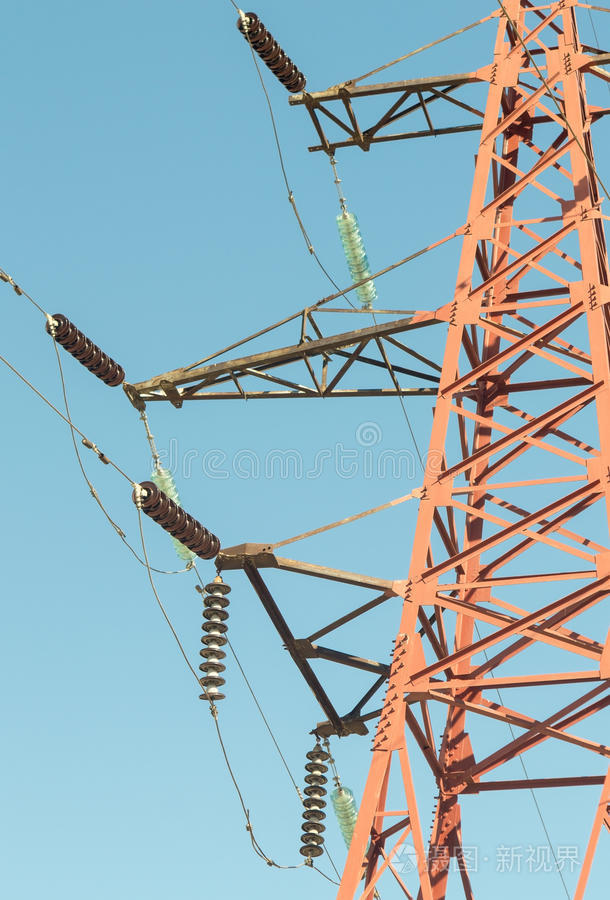insulator: (134, 477, 222, 556), (47, 312, 124, 387), (236, 10, 306, 89), (196, 580, 234, 702), (337, 210, 378, 307), (153, 470, 190, 559), (302, 747, 330, 859), (330, 785, 356, 846)
